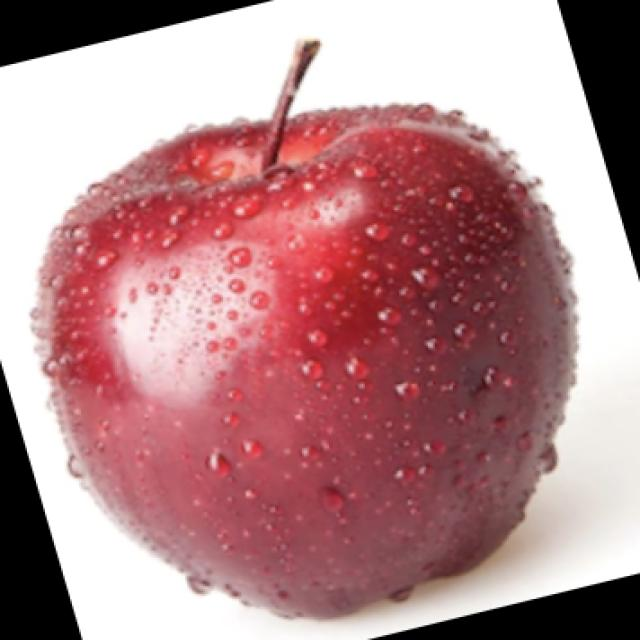organik: (22, 61, 601, 597)
